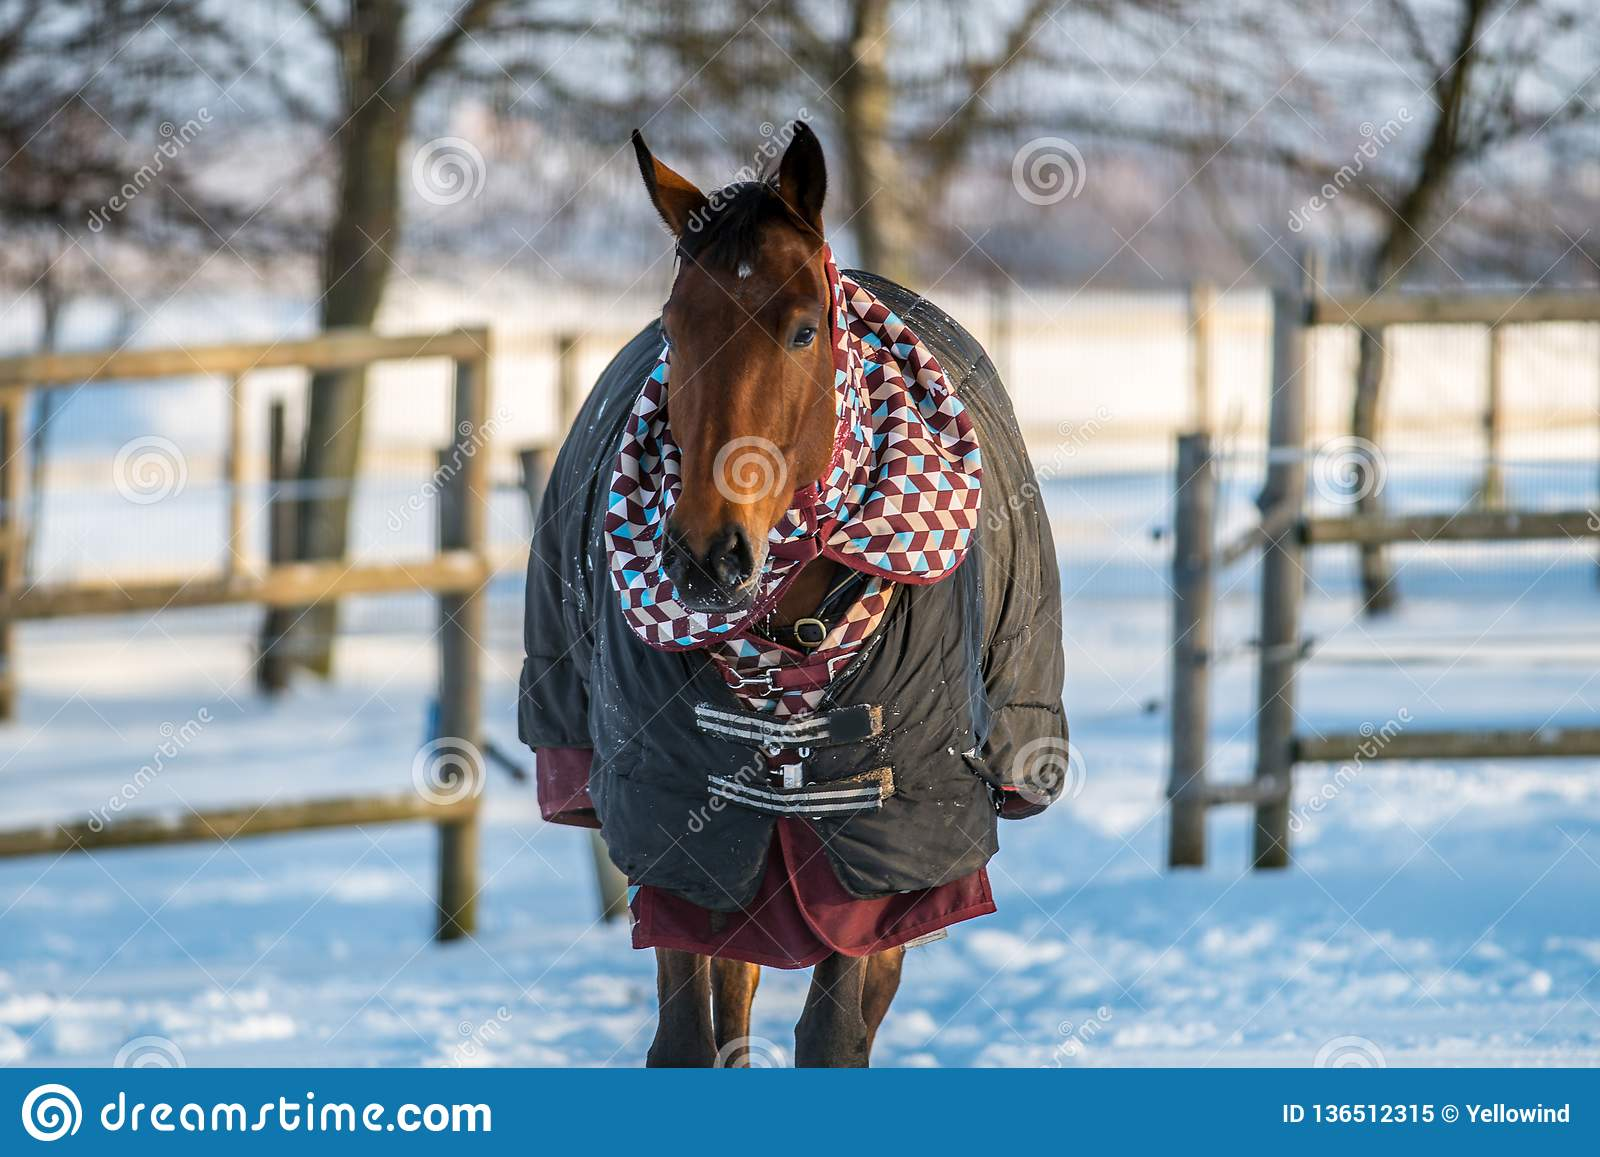Horse: (509, 93, 1106, 1058)
